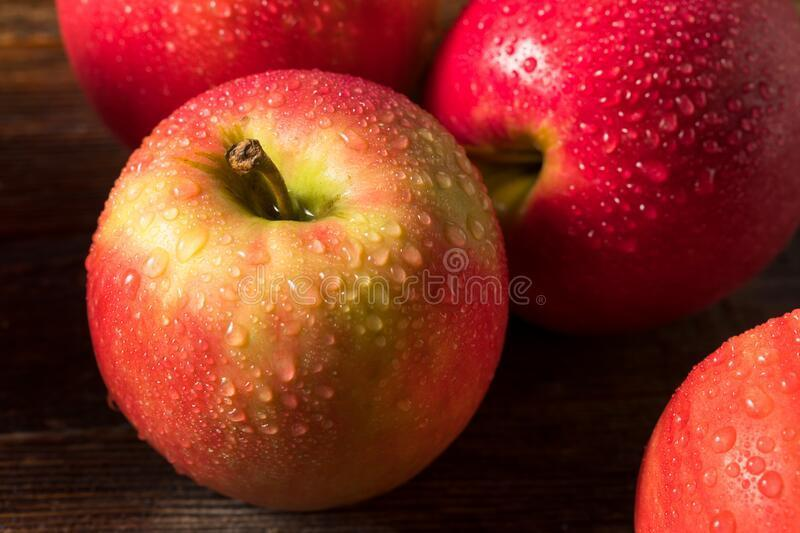apple: (81, 75, 514, 508), (427, 1, 797, 322), (47, 1, 441, 141)
